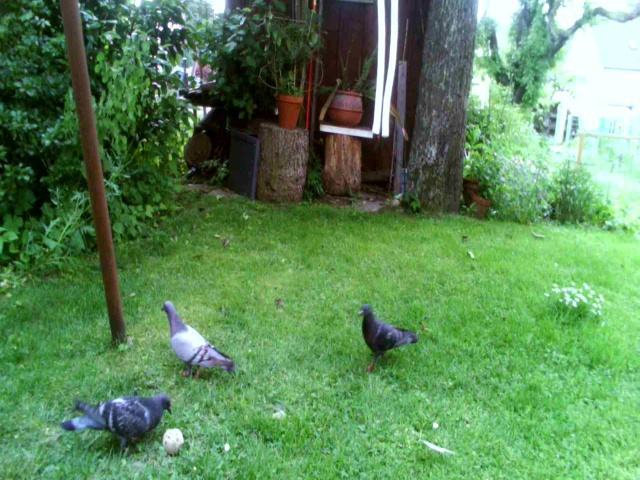Pigeon: (153, 298, 246, 387), (346, 299, 432, 384), (58, 392, 176, 453)
